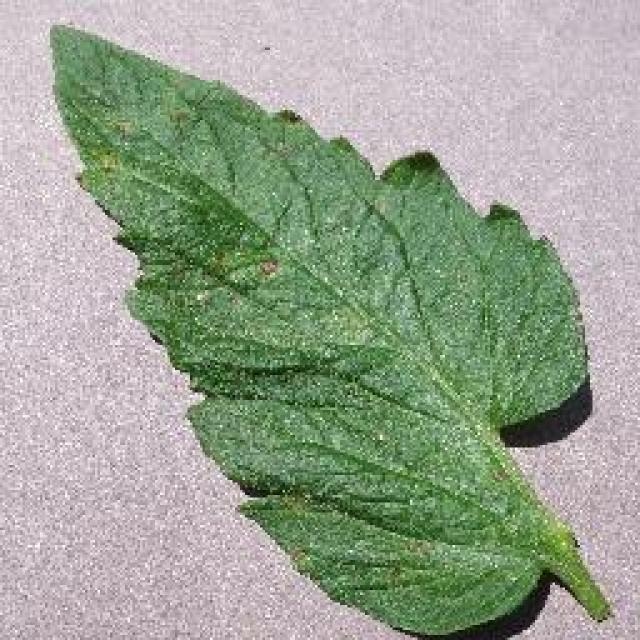Tomato target spot leaf: (48, 21, 590, 636)
